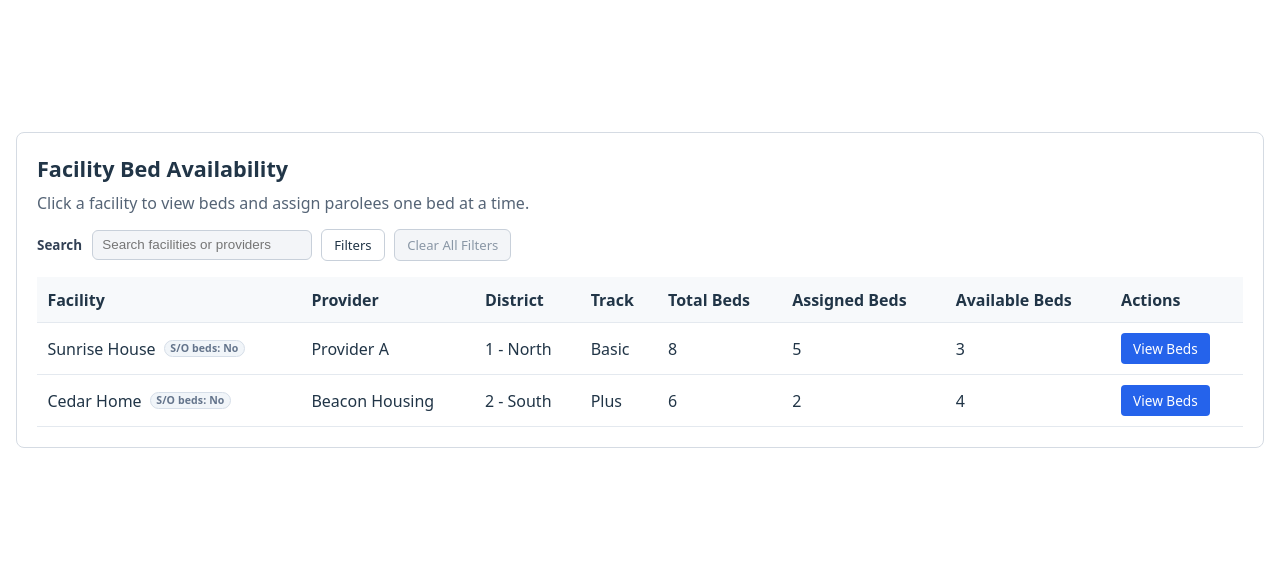
Test: MainDash › clear all filters resets search and filter selections
expect the text "Sunrise House" is shown: met, box [47,337,156,361]
expect the text "Cedar Home" is shown: met, box [47,388,142,412]
Type "beacon" into the search field named "Search facilities or providers" at [202, 245], box [92,230,312,260]
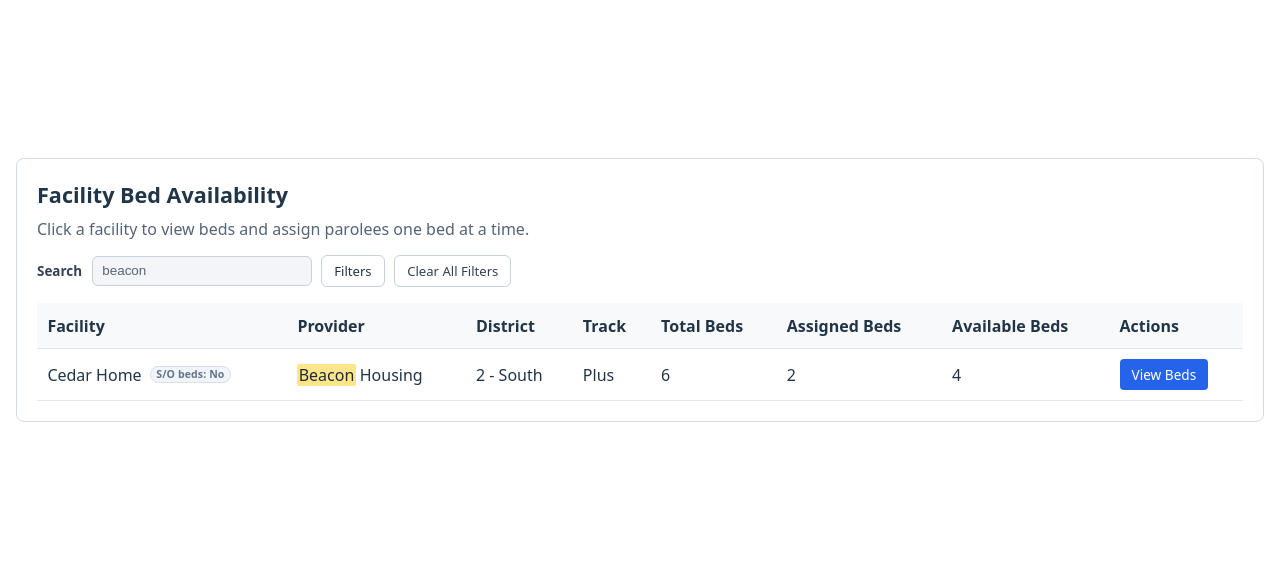
expect the text "Cedar Home" is shown: met, box [47,363,142,387]
expect the text "Sunrise House" is gone: met
Click the button "Filters" at [353, 271], box [321,254,385,287]
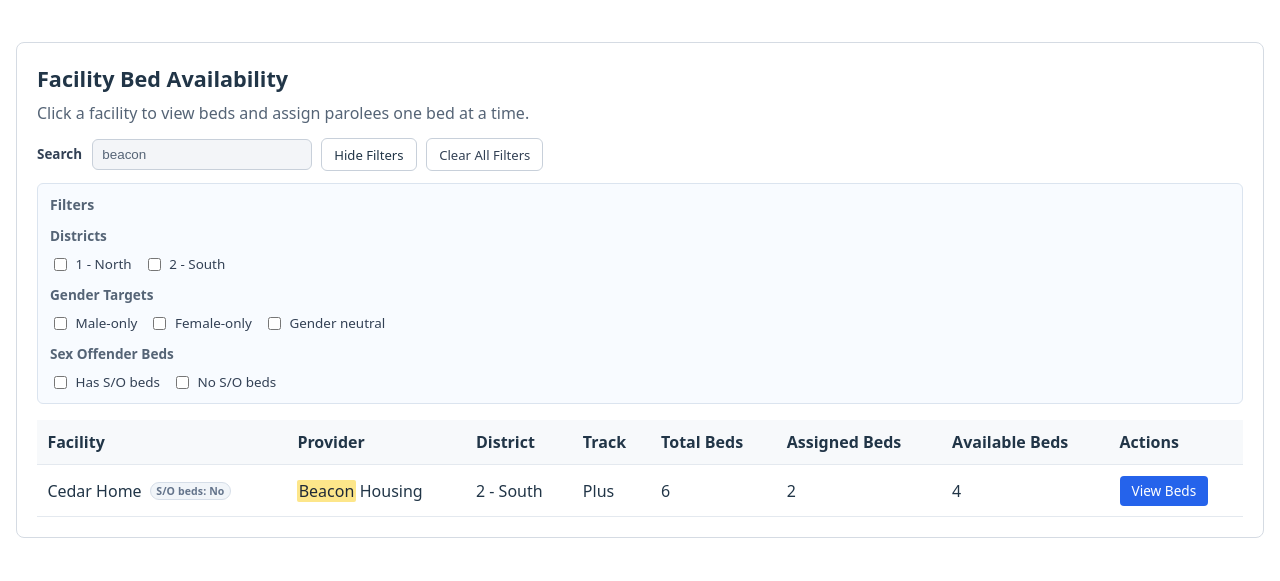
Click the checkbox labelled "1 - North" at [60, 264], box [54,258,67,271]
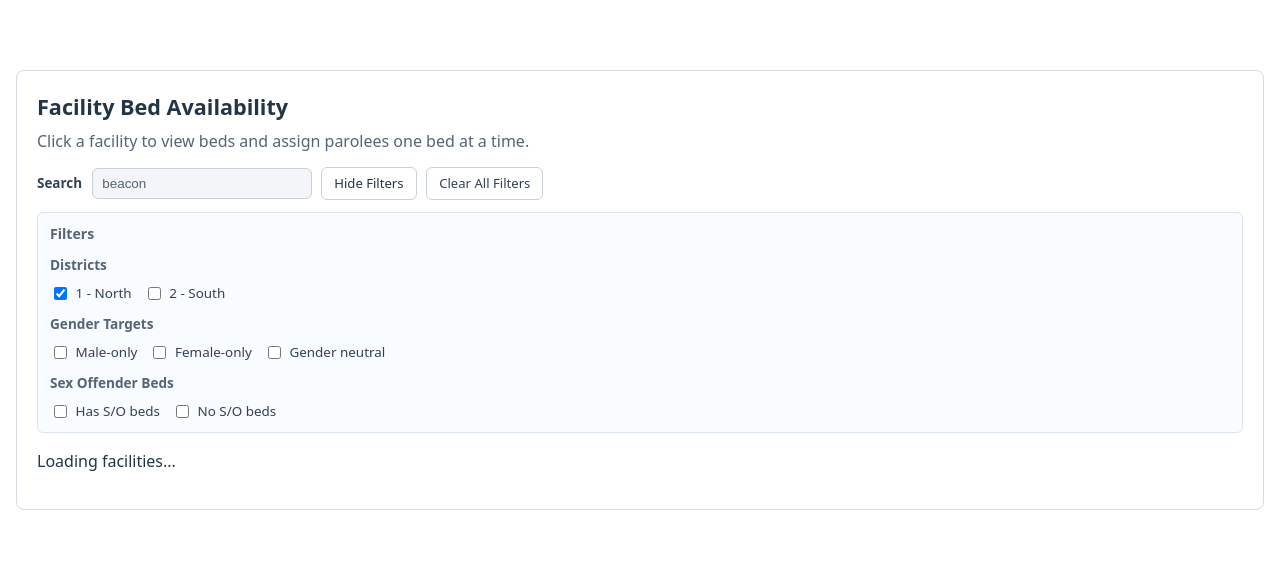
Click the checkbox labelled "Gender neutral" at [274, 352], box [268,346,281,359]
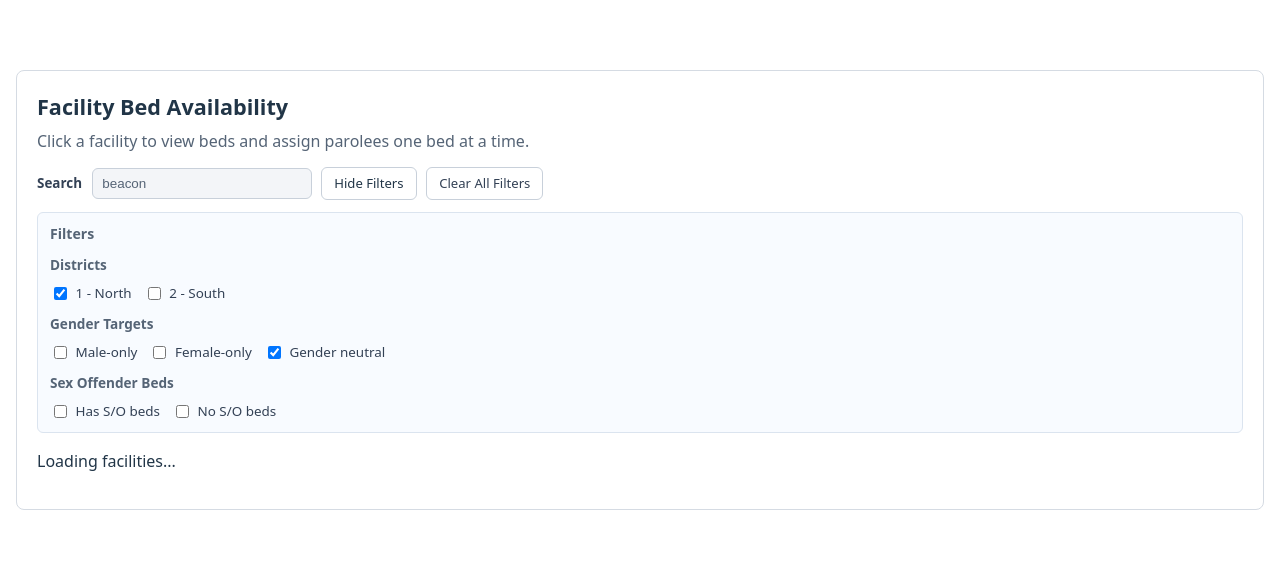
Click the checkbox labelled "Has S/O beds" at [60, 411], box [54,405,67,418]
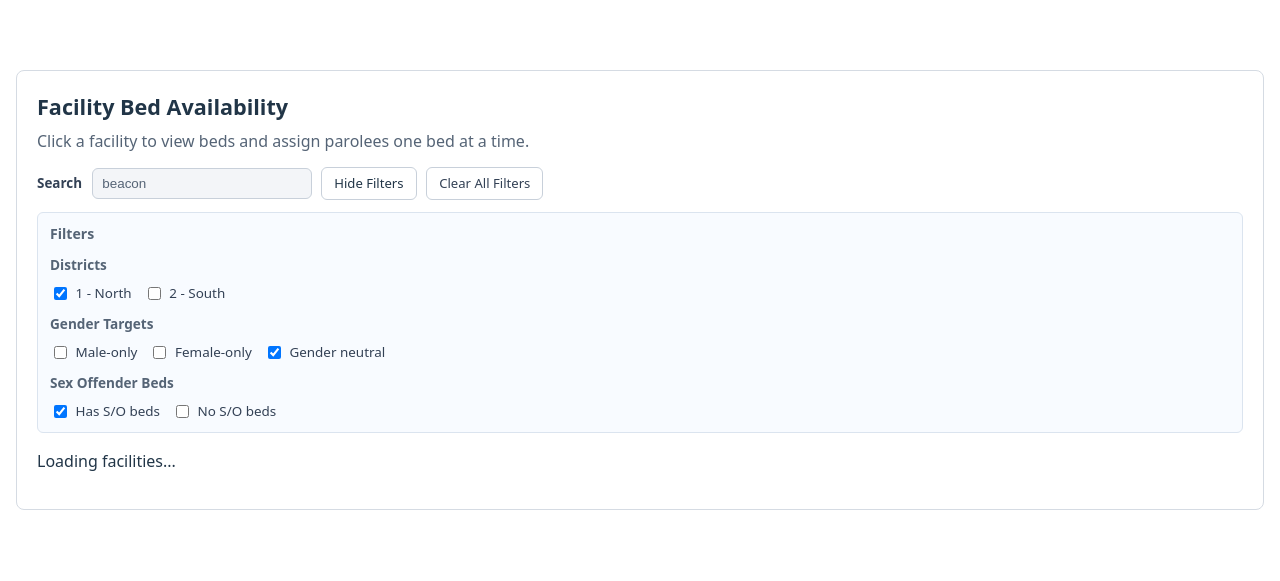
expect the checkbox labelled "1 - North" is checked: met, box [54,287,67,300]
expect the checkbox labelled "Gender neutral" is checked: met, box [268,346,281,359]
expect the checkbox labelled "Has S/O beds" is checked: met, box [54,405,67,418]
Click the button "Clear All Filters" at [485, 183], box [426,167,543,200]
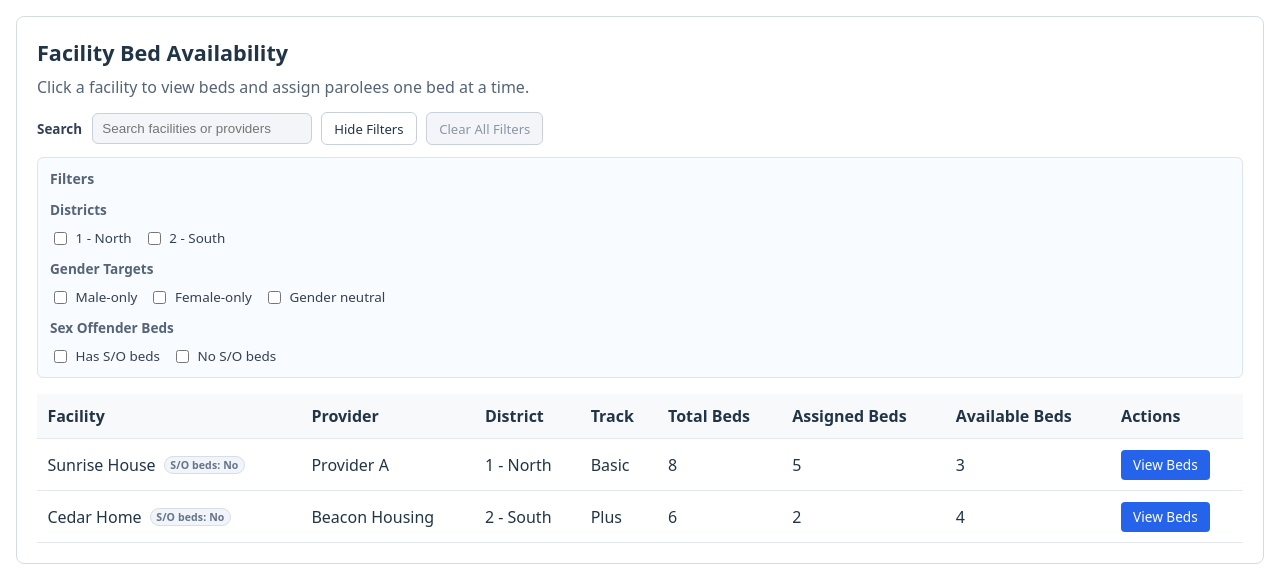
expect the checkbox labelled "1 - North" is not checked: met, box [54,232,67,245]
expect the checkbox labelled "Gender neutral" is not checked: met, box [268,291,281,304]
expect the search field named "Search facilities or providers" is empty: met, box [92,113,312,144]
